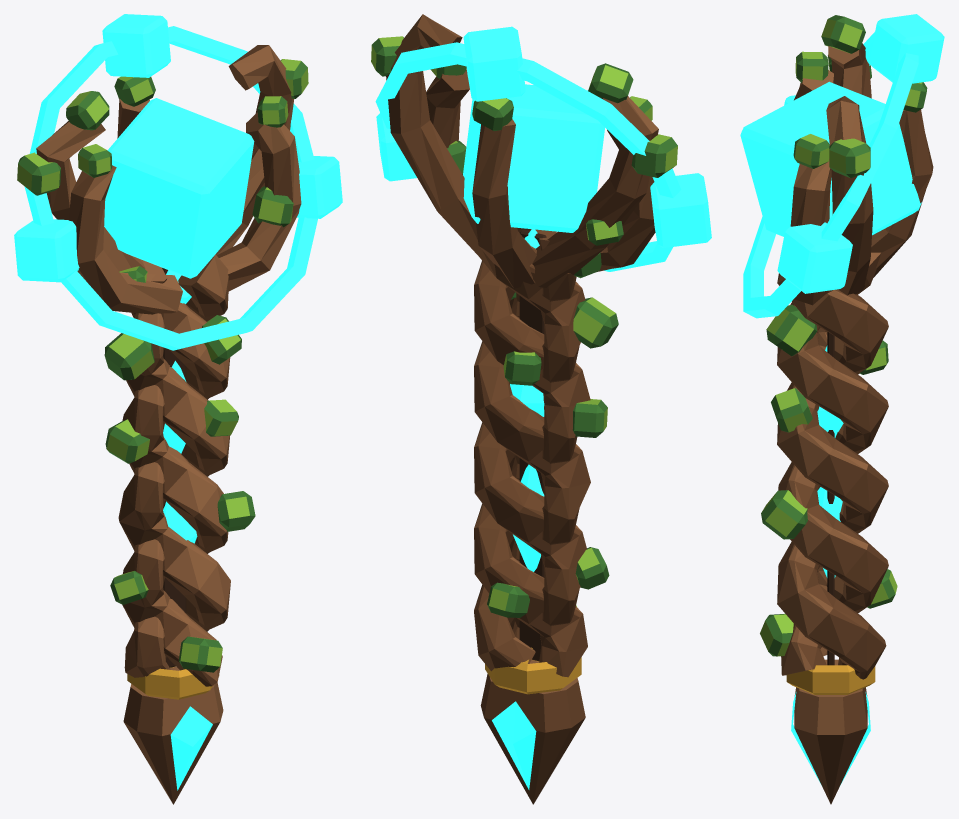
File: worldroot_staff.glb
3 views of the same model, side by side, from view 1: azimuth 30°, elevation 25°; view 2: azimuth 150°, elevation 25°; view 3: azimuth 270°, elevation 25° (orthographic). The views are drawn at different scales.
Visible parts, largest first — view 1: Glow_Orb, Glow_Halo, shaft_root_3, shaft_root_1, shaft_root_2, root_cradle_left_inner, root_cradle_right_inner, foot_spike, Glow_Sat_Top, root_cradle_right_outer, Glow_Sat_Left, root_cradle_left_outer (+19 smaller); view 2: shaft_root_1, Glow_Orb, shaft_root_3, shaft_root_2, root_cradle_right_outer, Glow_Halo, root_cradle_left_outer, root_cradle_back, foot_spike, Glow_Sat_Top, Glow_Sat_Left, root_cradle_left_inner (+17 smaller); view 3: shaft_root_3, Glow_Orb, shaft_root_1, shaft_root_2, Glow_Halo, foot_spike, root_cradle_right_outer, Glow_Sat_Right, Glow_Sat_Top, root_cradle_back, root_cradle_right_inner, gold_band (+17 smaller).
Part boxes in pixels (<box>): Glow_Orb: <box>104,98,254,278</box>; Glow_Halo: <box>24,26,317,350</box>; shaft_root_3: <box>118,260,230,631</box>; shaft_root_1: <box>122,254,228,677</box>; shaft_root_2: <box>122,313,230,686</box>; root_cradle_left_inner: <box>68,165,182,314</box>; root_cradle_right_inner: <box>191,112,301,307</box>; foot_spike: <box>123,666,223,804</box>; Glow_Sat_Top: <box>102,14,170,77</box>; root_cradle_right_outer: <box>216,45,294,255</box>; Glow_Sat_Left: <box>14,219,79,282</box>; root_cradle_left_outer: <box>36,121,145,271</box>; shaft_root_1: <box>474,228,590,677</box>; Glow_Orb: <box>463,84,604,232</box>; shaft_root_3: <box>474,237,590,671</box>; shaft_root_2: <box>474,237,586,639</box>; root_cradle_right_outer: <box>386,14,495,276</box>; Glow_Halo: <box>375,42,681,271</box>; root_cradle_left_outer: <box>532,96,658,287</box>; root_cradle_back: <box>472,119,536,288</box>; foot_spike: <box>480,660,585,804</box>; Glow_Sat_Top: <box>463,26,525,101</box>; Glow_Sat_Left: <box>650,173,711,247</box>; root_cradle_left_inner: <box>597,129,655,271</box>; shaft_root_3: <box>777,302,888,679</box>; Glow_Orb: <box>740,81,921,236</box>; shaft_root_1: <box>777,273,888,655</box>; shaft_root_2: <box>777,252,888,675</box>; Glow_Halo: <box>743,32,918,318</box>; foot_spike: <box>794,659,867,804</box>; root_cradle_right_outer: <box>826,96,873,295</box>; Glow_Sat_Right: <box>777,222,852,293</box>; Glow_Sat_Top: <box>869,14,944,83</box>; root_cradle_back: <box>871,109,933,277</box>; root_cradle_right_inner: <box>790,159,832,305</box>; gold_band: <box>786,665,875,694</box>.
Size of the model in its own units: 0.5992 by 1.37 by 0.3231.
